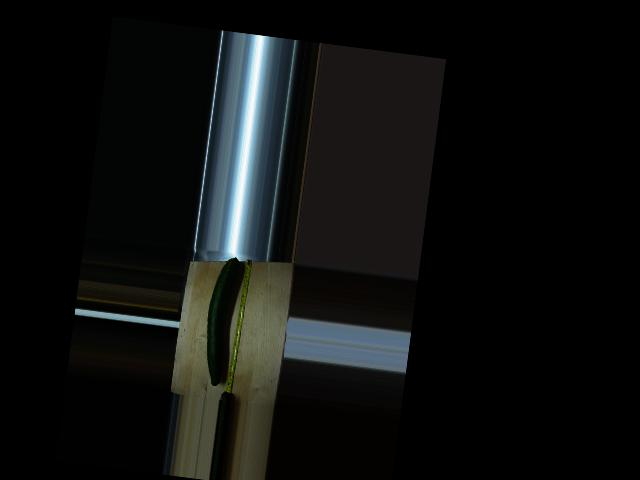cucumber: (199, 255, 241, 387)
